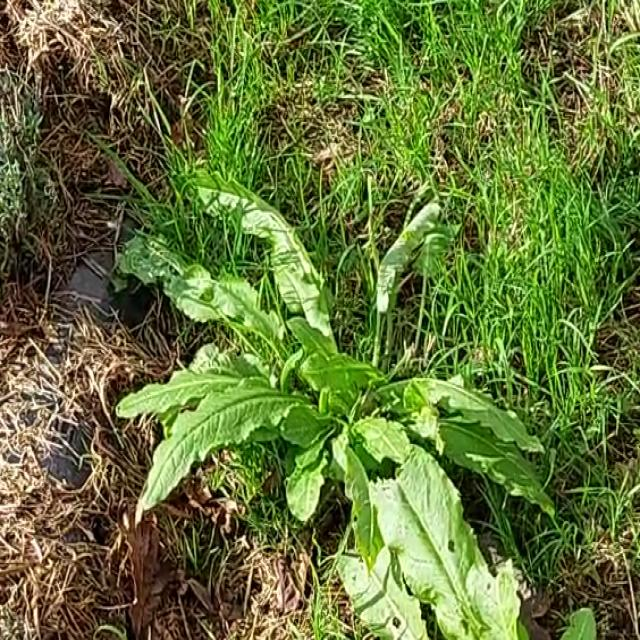organic waste: (116, 148, 568, 640)
